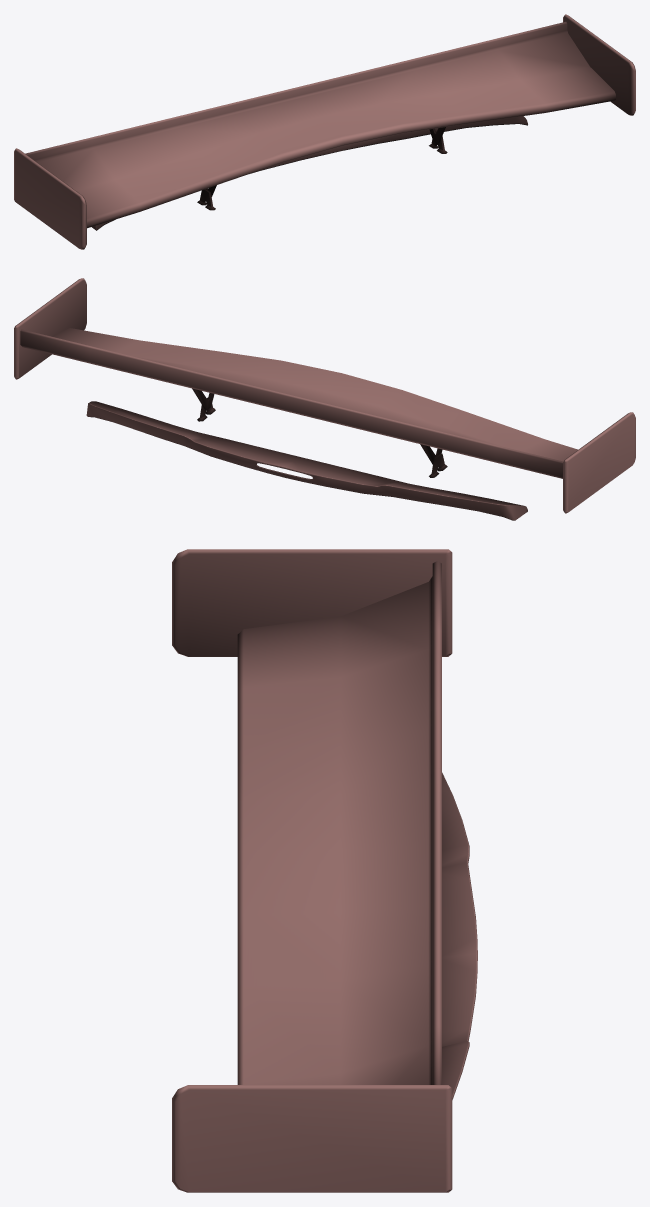
The model's file is Zr1_Spoiler_03_Trim.fbx.
3 renders of one model, top to bottom at view 1: azimuth 30°, elevation 25°; view 2: azimuth 150°, elevation 25°; view 3: azimuth 270°, elevation 25°, orthographic. The views are drawn at different scales.
Visible parts, largest first — view 1: Zr1_Spoiler_03_Trim; view 2: Zr1_Spoiler_03_Trim; view 3: Zr1_Spoiler_03_Trim.
Part boxes in pixels (x1=…): Zr1_Spoiler_03_Trim: x1=14, y1=14, x2=635, y2=249; Zr1_Spoiler_03_Trim: x1=14, y1=278, x2=635, y2=520; Zr1_Spoiler_03_Trim: x1=172, y1=549, x2=477, y2=1192.
Size of the model in its own units: 190 by 27.26 by 45.4.
